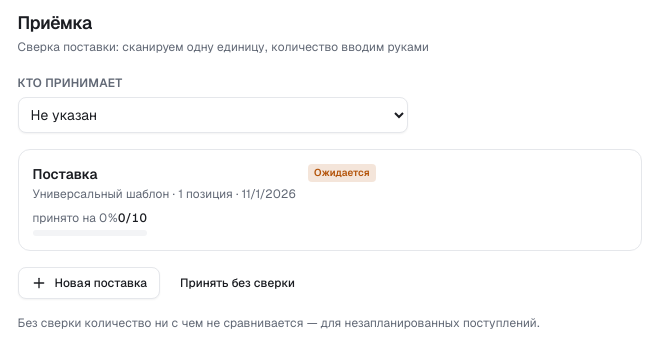
ReceivingScreen — порядок шагов › паллету можно пропустить — мелкая поставка идёт сразу в тару
Click the button "Поставка": coordinates (65, 174) [18,149,642,251]
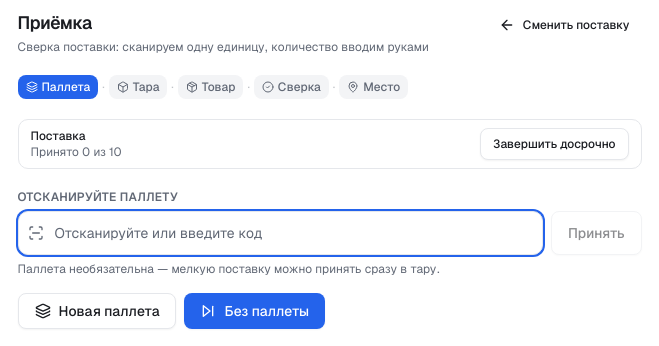
Click the button "Без паллеты": coordinates (255, 311) [184,293,325,329]
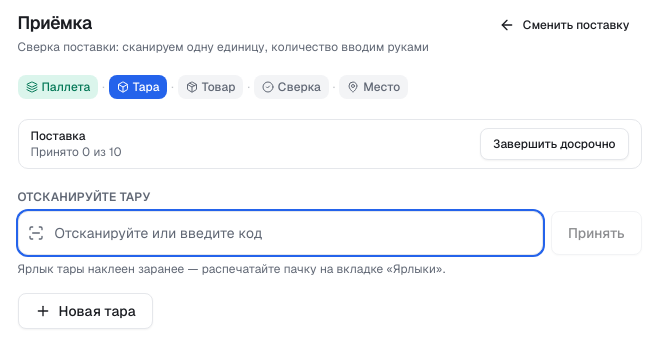
Check: the text "Отсканируйте тару" is shown, box [18,189,151,205]
